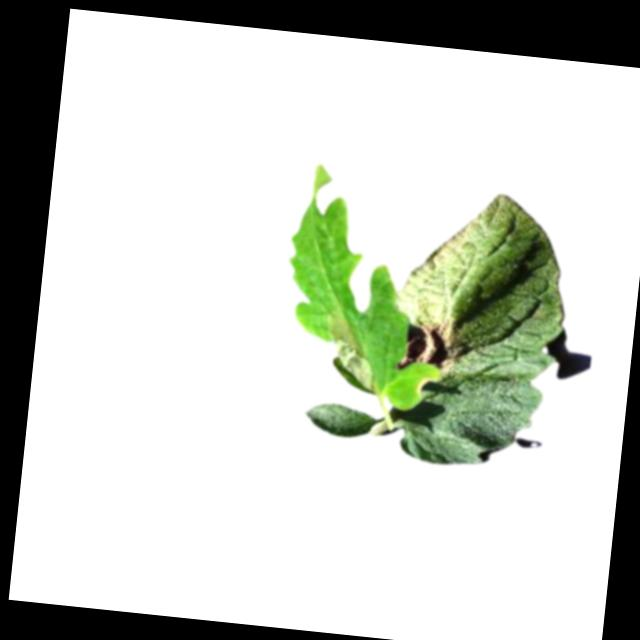Late_blight: (322, 309, 386, 393), (395, 315, 459, 375)
